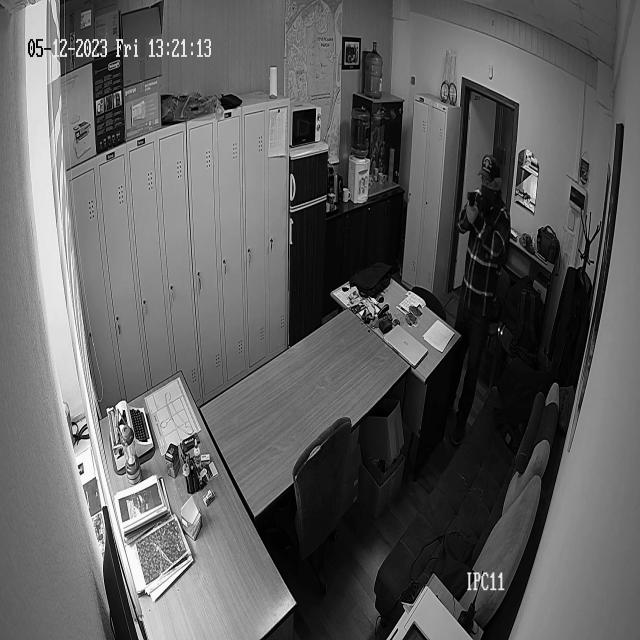gun: (462, 190, 484, 203)
person with a gun: (454, 132, 514, 446)
